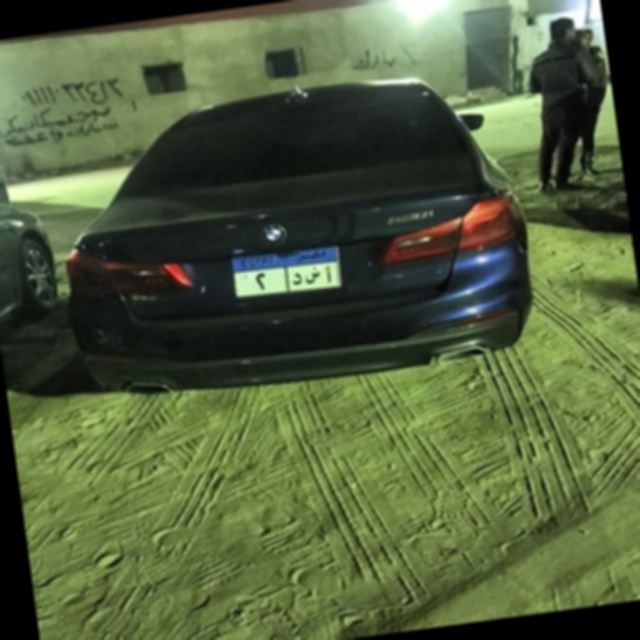License Plate: (227, 240, 347, 305)
